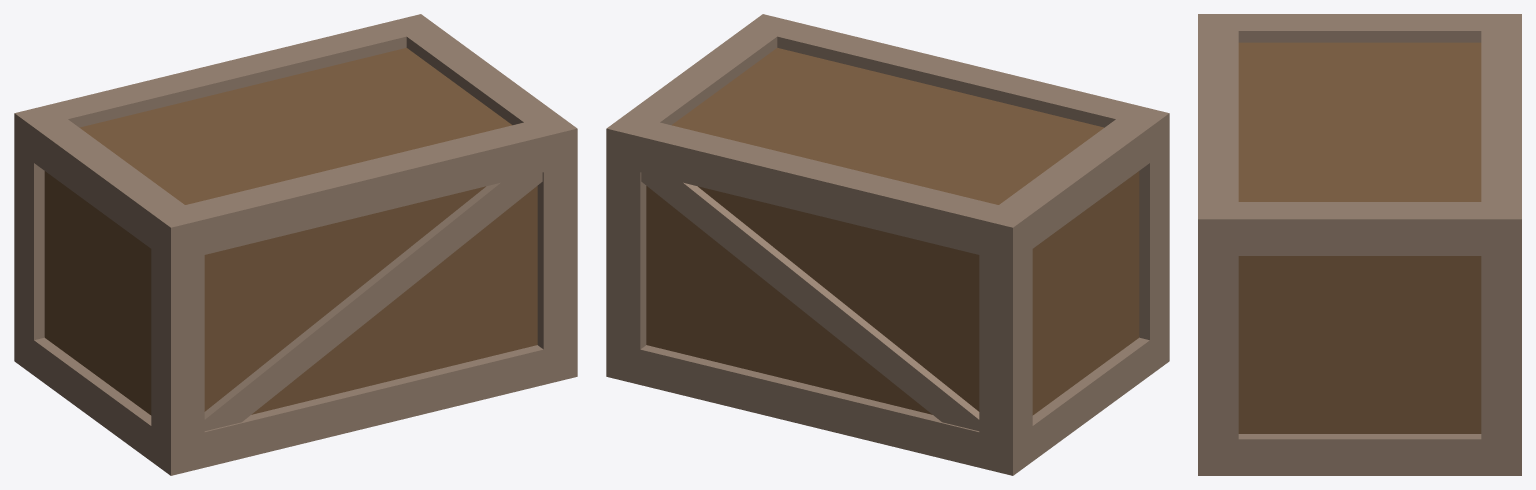
File: Ammo_Refill.fbx
The picture shows the model from 3 angles, left to right: view 1: azimuth 30°, elevation 25°; view 2: azimuth 150°, elevation 25°; view 3: azimuth 270°, elevation 25°; orthographic projection. The views are drawn at different scales.
Parts seen in each view (by area): view 1: pCube1, pCube2; view 2: pCube1, pCube2; view 3: pCube1.
Part boxes in pixels (x1=…): pCube1: x1=14, y1=14, x2=577, y2=475; pCube2: x1=204, y1=172, x2=542, y2=430; pCube1: x1=606, y1=14, x2=1169, y2=475; pCube2: x1=641, y1=172, x2=979, y2=430; pCube1: x1=1198, y1=14, x2=1521, y2=475.
Size of the model in its own units: 60 by 35 by 40.
